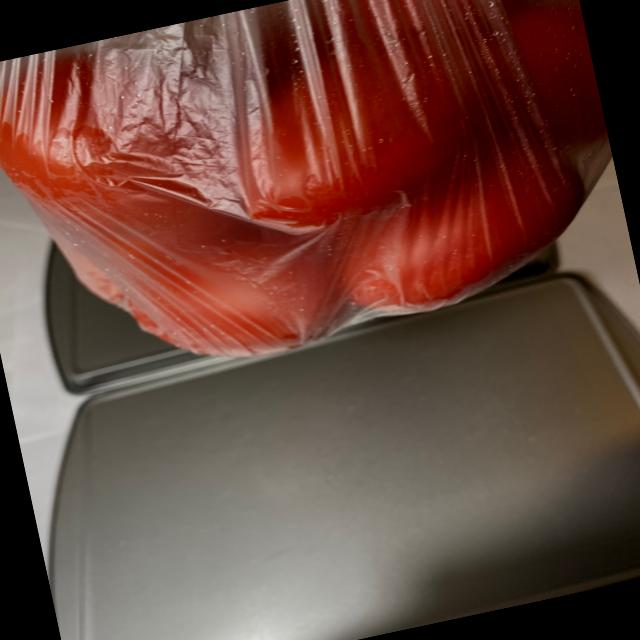tomato: (0, 0, 635, 398)
